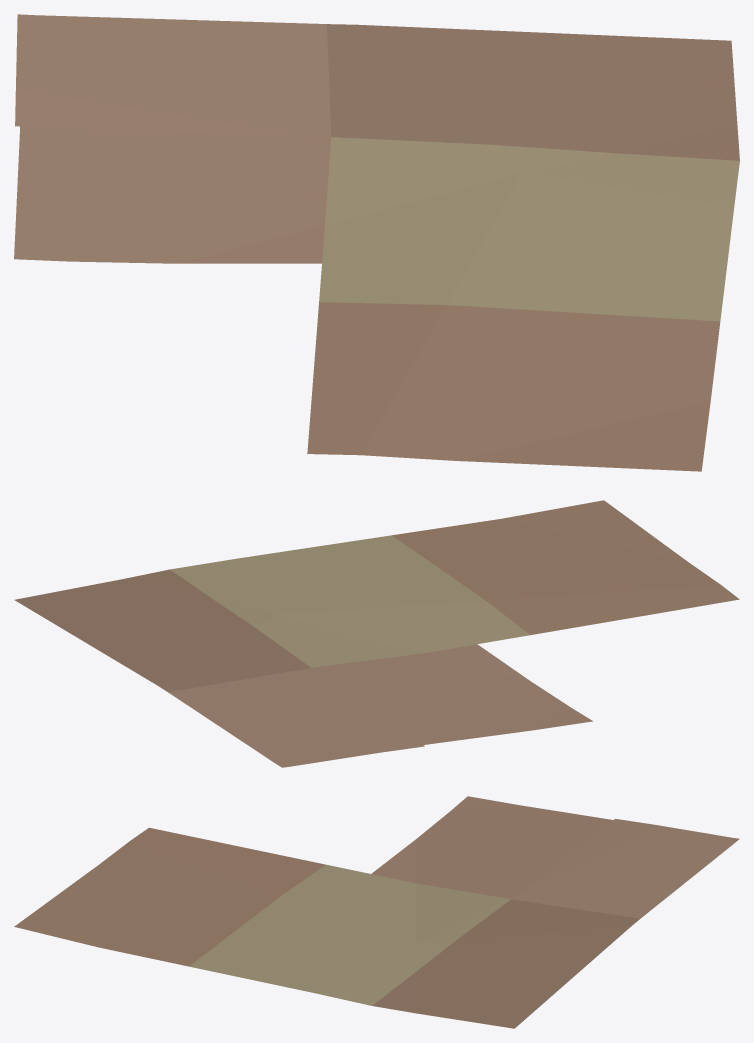
The model's file is farm_-7_-5_soil.glb.
3 views of the same model, one above another, from view 1: azimuth 30°, elevation 25°; view 2: azimuth 150°, elevation 25°; view 3: azimuth 270°, elevation 25° (orthographic). The views are drawn at different scales.
Parts seen in each view (by area): view 1: geometry_0; view 2: geometry_0; view 3: geometry_0.
Boxes of the visible parts, left/top/right/bottom form: geometry_0: left=14, top=14, right=739, bottom=471; geometry_0: left=14, top=500, right=739, bottom=767; geometry_0: left=14, top=796, right=739, bottom=1028.
Size of the model in its own units: 142 by 13.71 by 183.
